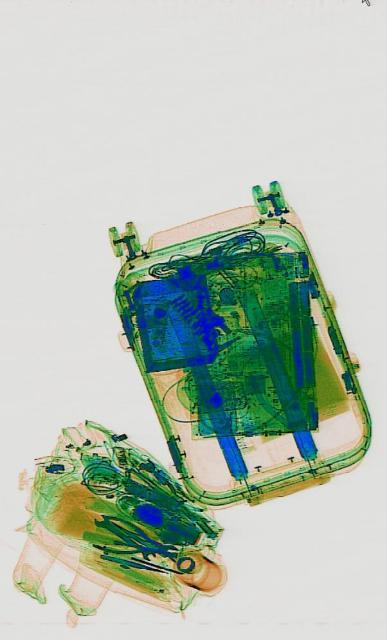Pliers: (90, 510, 179, 572)
Wrench: (92, 508, 157, 566)
